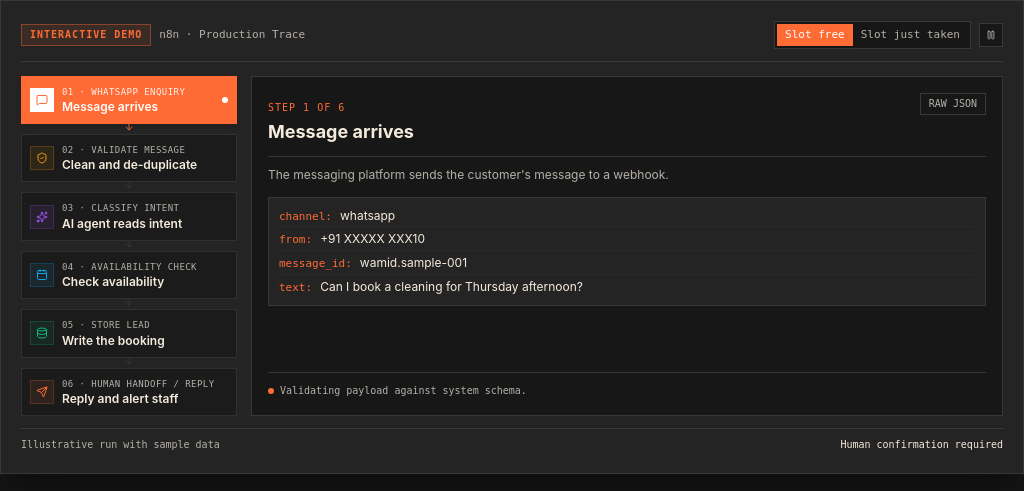
Test: HeroTrace › jumps to a stage on click and pauses
Click the button "05 · STORE LEAD Write the booking" at (129, 333), box [21, 309, 237, 358]
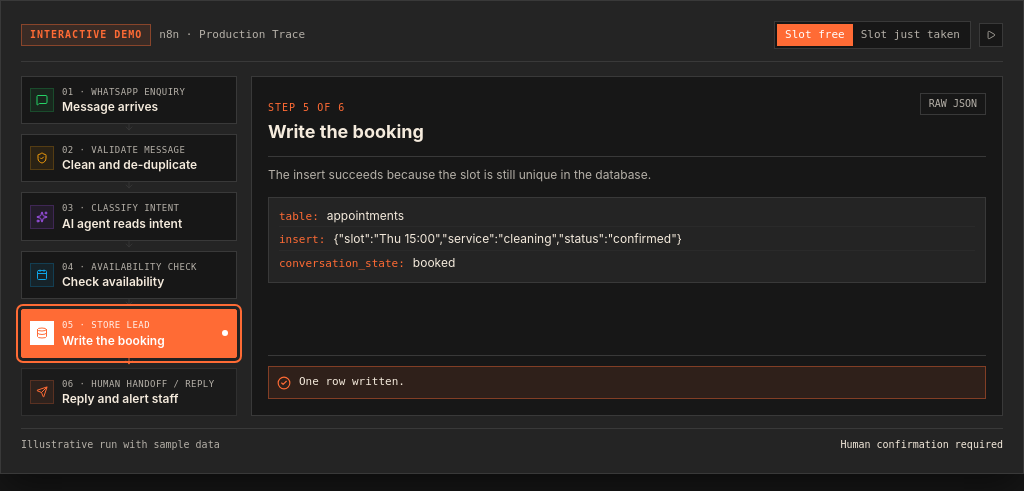
Check: the heading "Write the booking" is shown, box [268, 118, 424, 146]
Check: the button named "Play animation" is shown, box [979, 23, 1003, 47]
Check: the text "One row written." is shown, box [299, 375, 405, 390]
